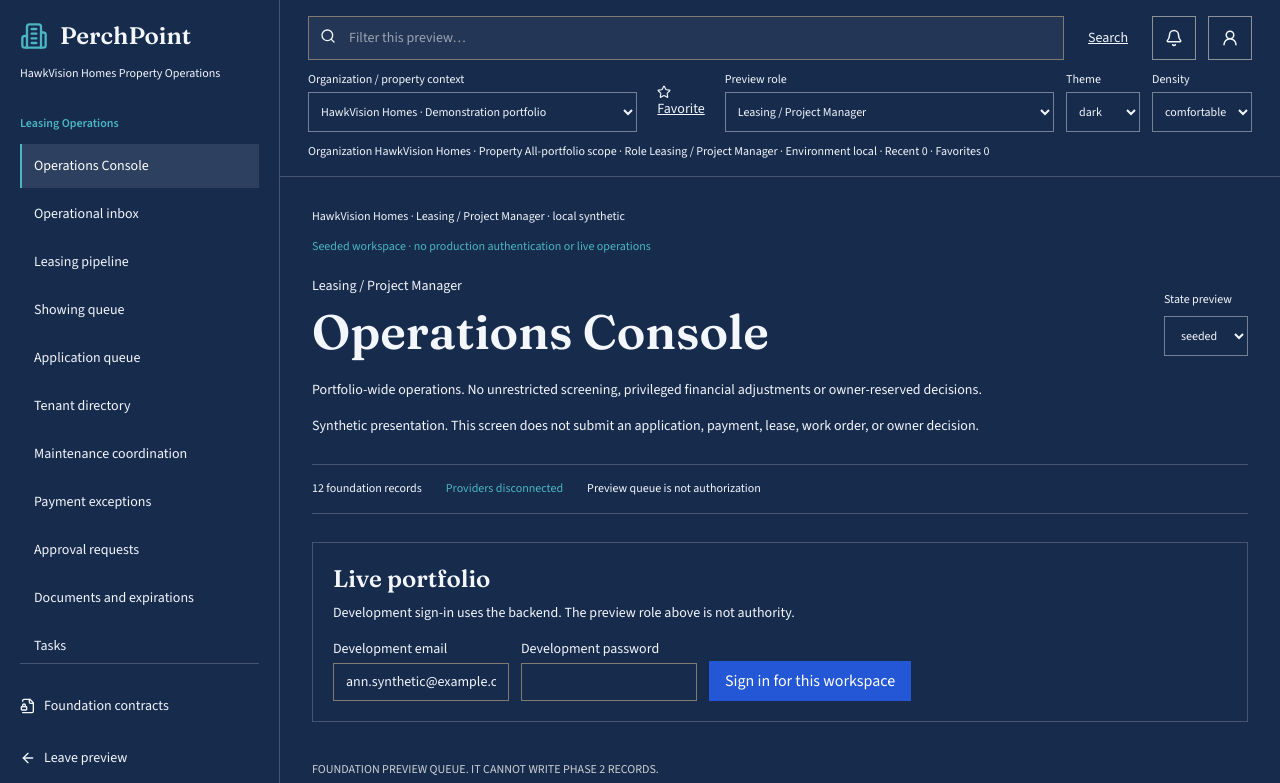
it: PerchPoint routing remediation › role switch clears toolbar panel and route state
The image size is (1280, 783).
Click the button named "Notifications" at (1174, 38), box left=1152, top=16, right=1196, bottom=60
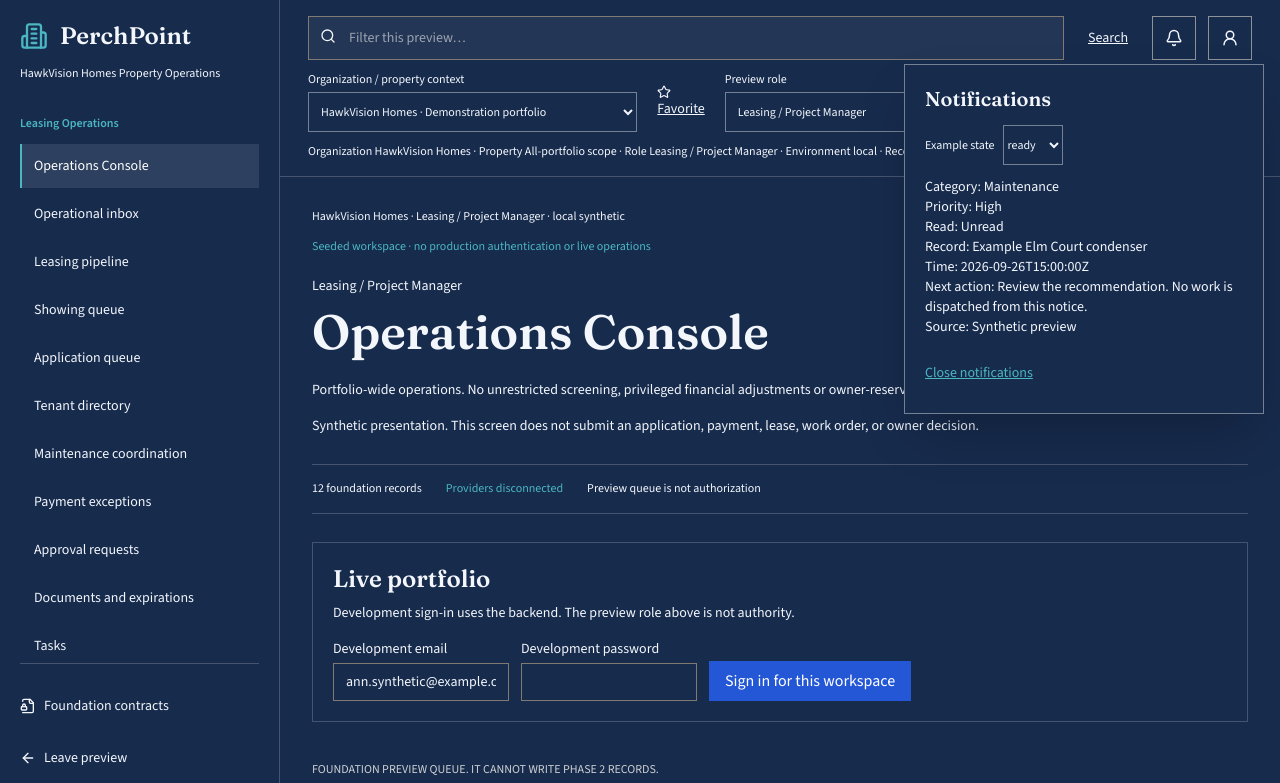
Select "Owner / Asset Principal" in the dropdown labelled "Preview role" at (889, 112), box left=725, top=92, right=1054, bottom=132
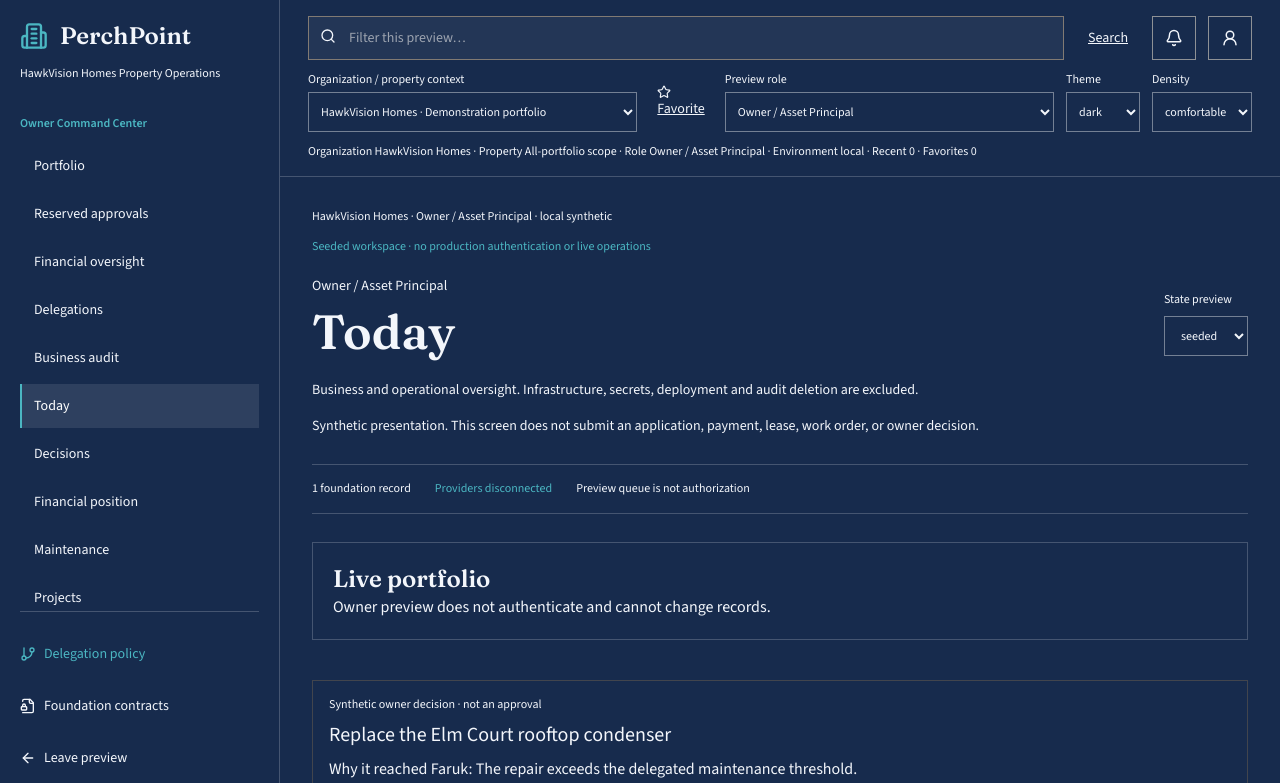
Result: the text "Owner Command Center" is shown at left=20, top=115, right=147, bottom=132
